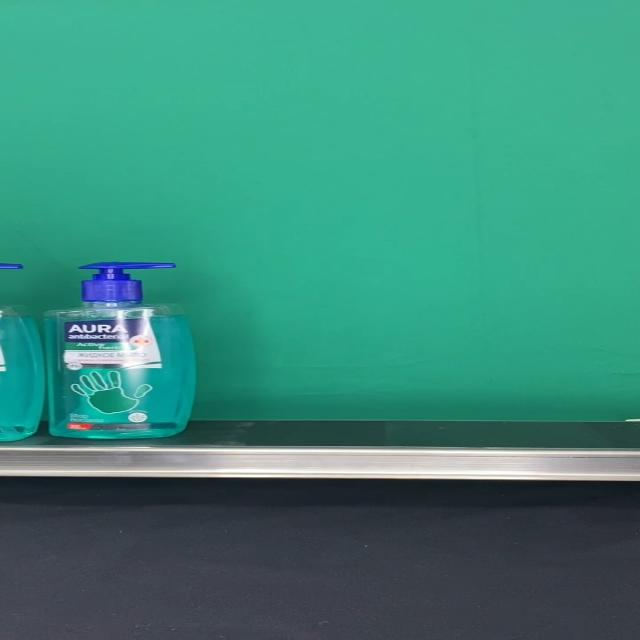Bottle: (45, 260, 198, 439)
Cap: (78, 260, 176, 300)
